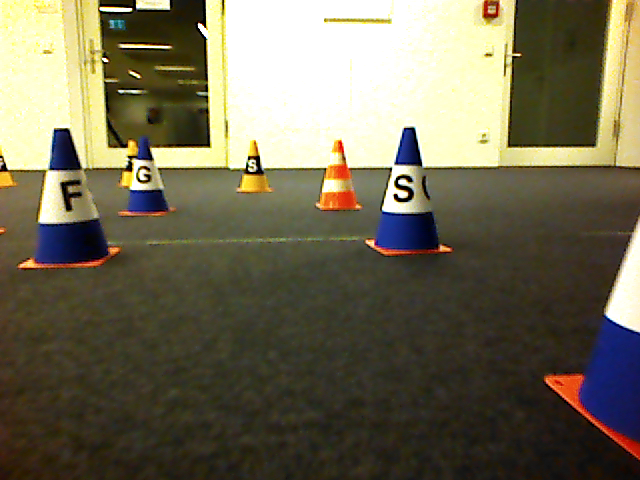bluecone: (16, 127, 124, 271), (365, 126, 454, 258), (117, 135, 177, 218)
orangeconesmall: (314, 138, 364, 211)
yellowcone: (234, 139, 276, 194)
